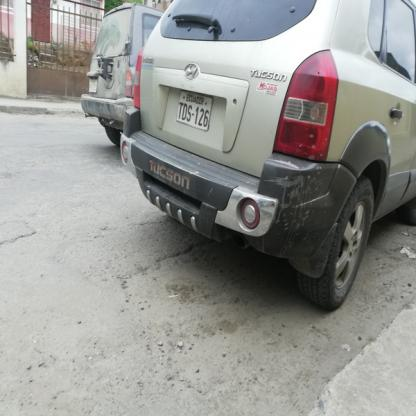Placa: (171, 88, 216, 134)
